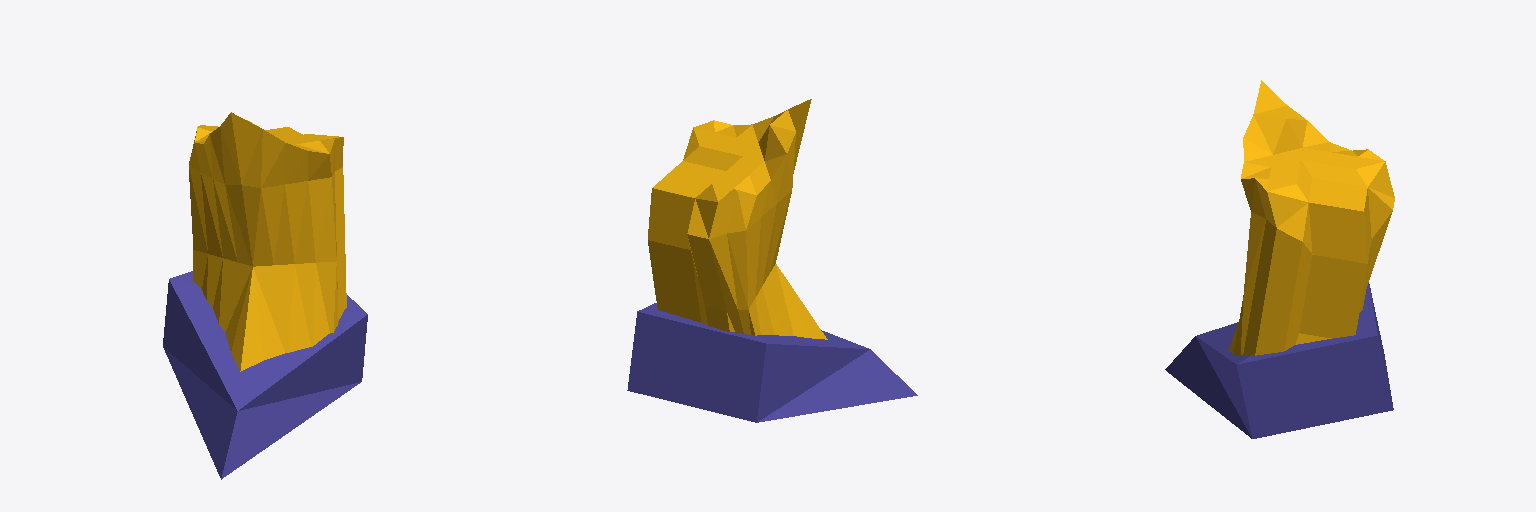
Rendered from footDR.obj.
The picture shows the model from 3 angles: view 1: azimuth 30°, elevation 25°; view 2: azimuth 150°, elevation 25°; view 3: azimuth 270°, elevation 25°; orthographic projection.
Visible parts, largest first — view 1: polySurface252; view 2: polySurface252; view 3: polySurface252.
Boxes of the visible parts, x1,y1,x2,y2 form: polySurface252: [163, 112, 367, 479]; polySurface252: [627, 99, 917, 422]; polySurface252: [1165, 80, 1394, 438].
Size of the model in its own units: 3.98 by 6.54 by 4.29.